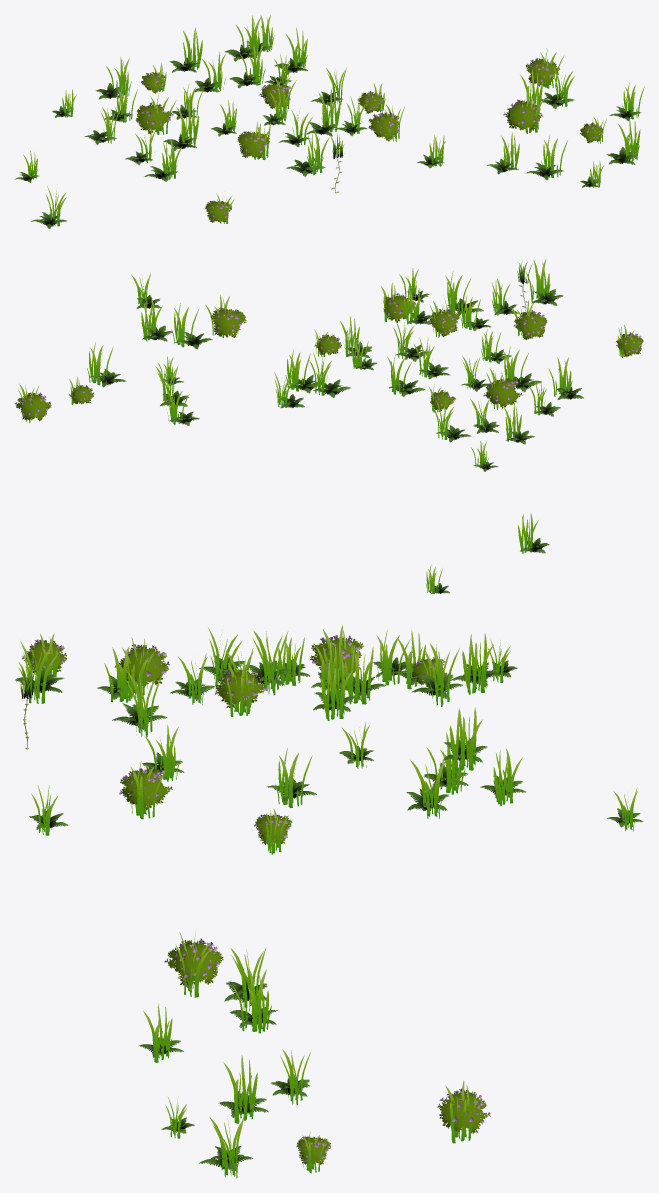
File: Harbour_Greenery.glb
The picture shows the model from 3 angles, top to bottom: view 1: azimuth 30°, elevation 25°; view 2: azimuth 150°, elevation 25°; view 3: azimuth 270°, elevation 25°; orthographic projection. The views are drawn at different scales.
Visible parts, largest first — view 1: Patch_007, Patch_023, Patch_011, Patch_039, Patch_003, Patch_026, Patch_016, Patch_041, Patch_029, Patch_027, Patch_002, Patch_033 (+27 smaller); view 2: Patch_007, Patch_023, Patch_039, Patch_011, Patch_016, Patch_003, Patch_027, Patch_001, Patch_026, Patch_004, Patch_038, Patch_002 (+15 smaller); view 3: Patch_007, Patch_039, Patch_003, Patch_027, Patch_011, Patch_023, Patch_002, Patch_025, Patch_041, Patch_038, Patch_012, Patch_008 (+21 smaller).
Part boxes in pixels (x1,y1,x2,y2): Patch_007: (503,91,544,133); Patch_023: (135,93,176,134); Patch_011: (237,122,270,159); Patch_039: (526,48,564,88); Patch_003: (368,104,404,141); Patch_026: (606,119,640,164); Patch_016: (286,131,329,176); Patch_041: (306,89,340,136); Patch_029: (163,103,199,151); Patch_027: (259,73,296,108); Patch_002: (224,15,262,61); Patch_033: (169,27,202,72); Patch_007: (205,295,246,337); Patch_023: (483,368,522,409); Patch_039: (15,383,51,422); Patch_011: (510,300,547,339); Patch_016: (525,259,563,305); Patch_003: (381,282,416,322); Patch_027: (427,301,459,337); Patch_001: (171,303,212,349); Patch_026: (87,342,126,387); Patch_004: (285,349,317,393); Patch_038: (141,299,173,341); Patch_002: (309,352,350,397); Patch_007: (164,931,223,997); Patch_039: (437,1080,490,1143); Patch_003: (119,760,172,819); Patch_027: (215,659,266,716); Patch_011: (114,637,169,698); Patch_023: (310,625,363,690); Patch_002: (442,707,487,771); Patch_025: (218,1055,268,1123); Patch_041: (112,672,167,737); Patch_038: (230,969,277,1033); Patch_012: (451,633,500,694); Patch_008: (313,659,356,720).
Bounding box in the file's own units: 28.59 × 8.86 × 19.26.
7 materials, 4 textured.
